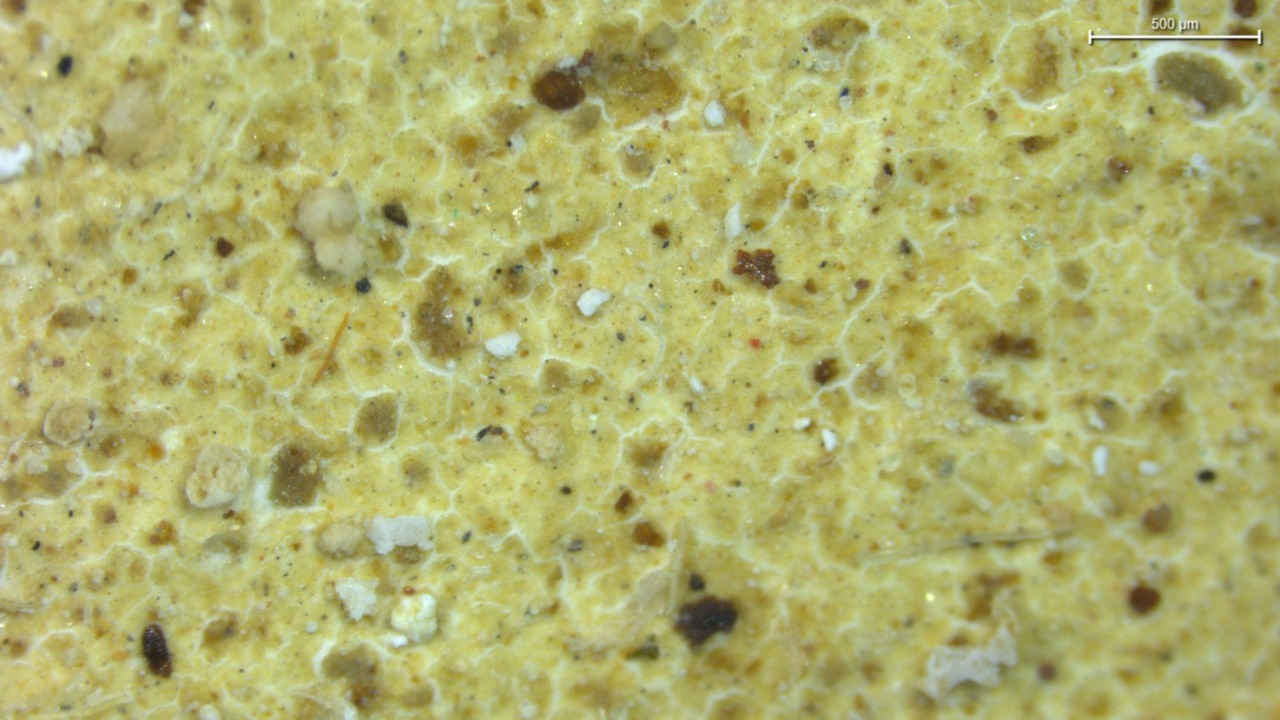microplastic_fragment: (294, 188, 364, 275), (185, 443, 249, 508), (365, 515, 430, 555), (334, 578, 377, 620), (485, 330, 522, 359), (577, 288, 610, 317)
